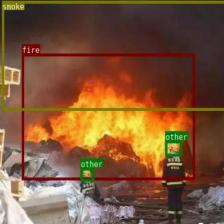fire: (22, 53, 194, 180)
smoke: (1, 1, 224, 110)
